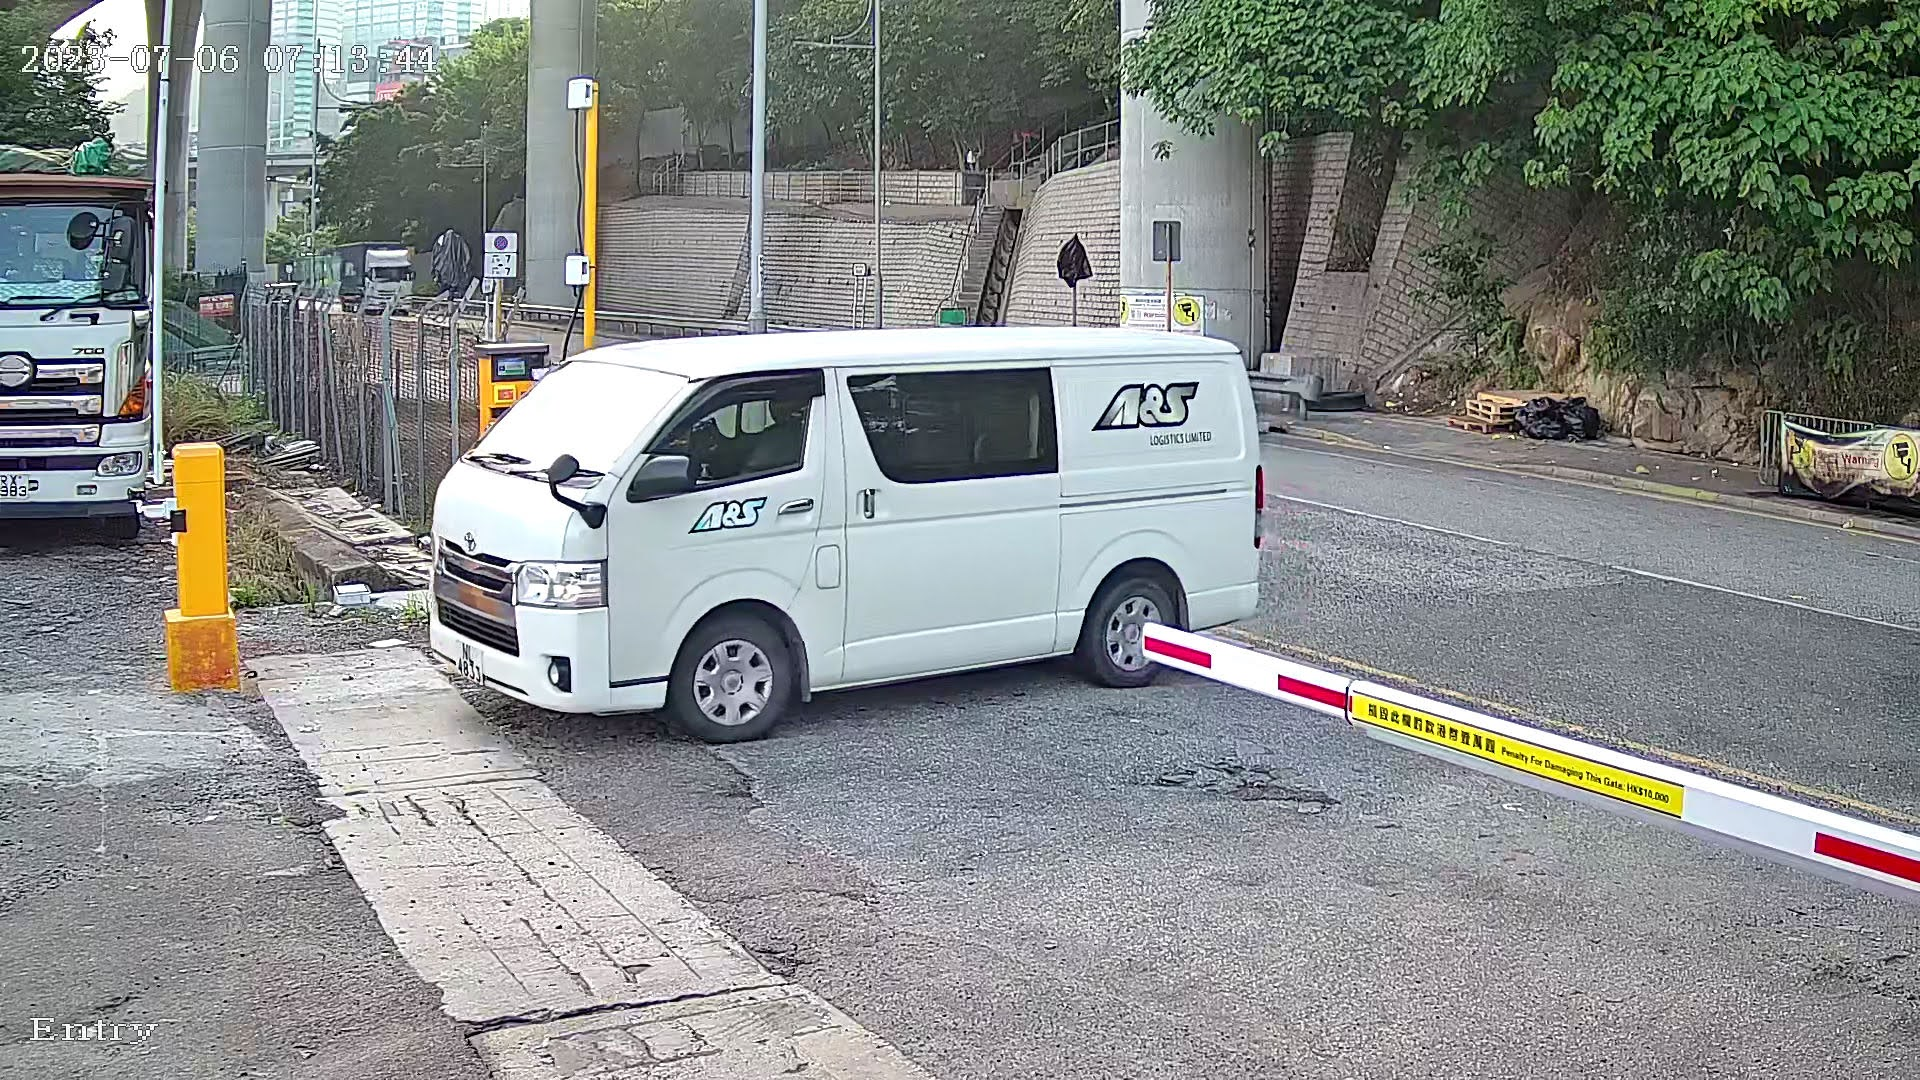privatecar: (382, 261, 1290, 756)
